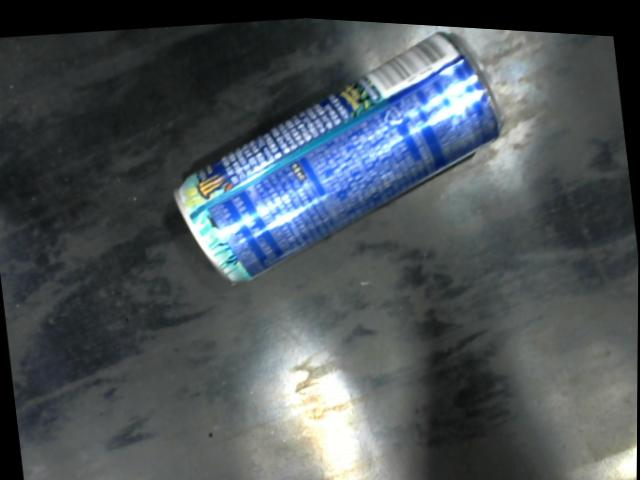can: (169, 24, 507, 283)
